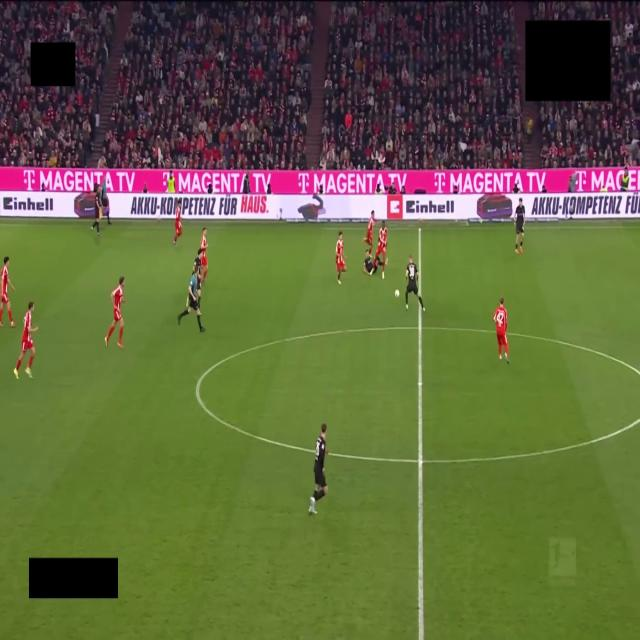ball: (395, 290, 399, 297)
player: (14, 302, 37, 378), (309, 424, 327, 514), (105, 277, 125, 348), (0, 256, 15, 327), (405, 256, 424, 311), (493, 298, 509, 362), (374, 221, 387, 279), (91, 185, 102, 235), (336, 232, 346, 283), (515, 199, 524, 253), (193, 249, 202, 303), (363, 211, 374, 250), (200, 228, 207, 283), (363, 249, 377, 275), (174, 200, 182, 245), (193, 248, 203, 276)
referee: (178, 272, 204, 332)
